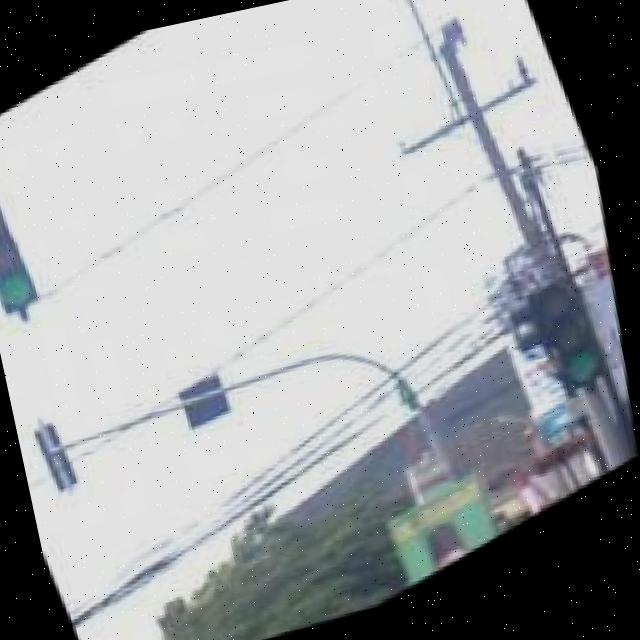green_light: (522, 272, 626, 412), (0, 179, 61, 328)
